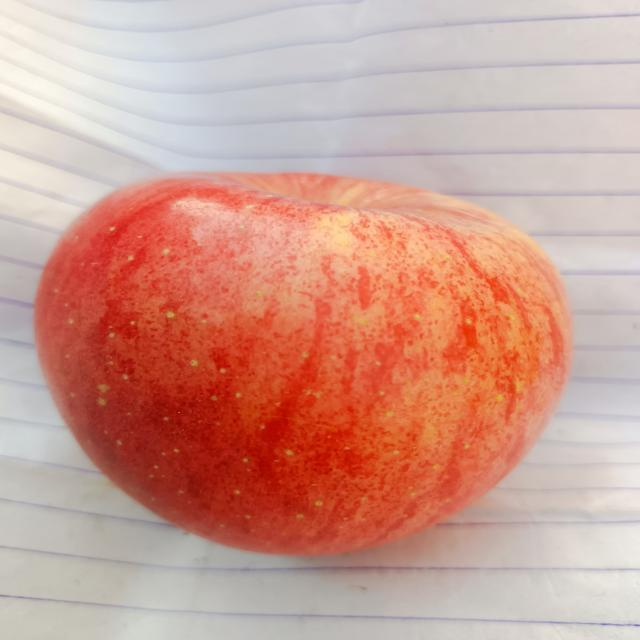Fresh Apple: (35, 167, 576, 560)
